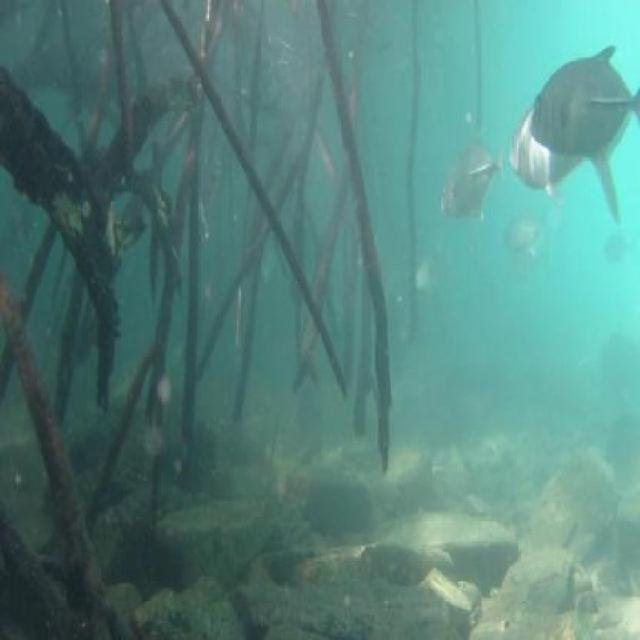Caranx_sexfasciatus_juvenile: (506, 86, 626, 220), (524, 40, 638, 172), (440, 109, 503, 234), (501, 236, 562, 289), (512, 202, 566, 250)
